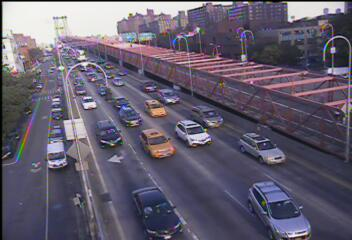neg: (36, 34, 52, 56)
